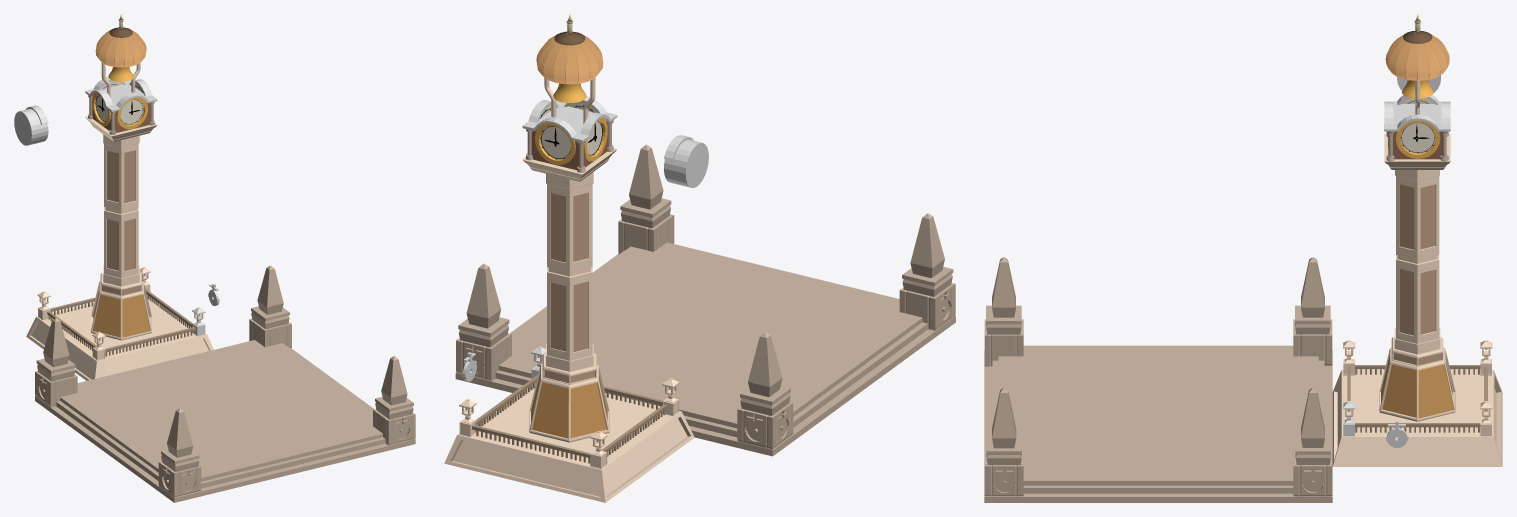
The model's file is Clock Tower.fbx.
3 renders of one model, left to right at view 1: azimuth 30°, elevation 25°; view 2: azimuth 150°, elevation 25°; view 3: azimuth 270°, elevation 25°, orthographic. The views are drawn at different scales.
Parts seen in each view (by area): view 1: Cube.011, LightTowerBase, Cube.024, Cylinder, Cube.002, Cube.021, Cube.022, Sphere.001, Cylinder.003, Cylinder.012, Clock holder.002, Clock (+11 smaller); view 2: Cube.011, LightTowerBase, Cylinder, Cube.021, Cube.024, Cube.022, Cube.002, Sphere.001, Plane.006, Cylinder.003, Plane.003, Cylinder.012 (+14 smaller); view 3: Cube.011, LightTowerBase, Cylinder, Cube.002, Cube.022, Cube.024, Cube.021, Sphere.001, Cylinder.003, Cylinder.012, Clock.001, Cube.014 (+8 smaller).
Boxes of the visible parts, left/top/right/bottom form: Cube.011: left=35, top=340, right=415, bottom=502; LightTowerBase: left=26, top=295, right=213, bottom=380; Cube.024: left=158, top=408, right=201, bottom=497; Cylinder: left=91, top=281, right=151, bottom=340; Cube.002: left=373, top=356, right=415, bottom=445; Cube.021: left=35, top=317, right=77, bottom=407; Cube.022: left=249, top=265, right=291, bottom=348; Sphere.001: left=95, top=27, right=146, bottom=67; Cylinder.003: left=104, top=207, right=138, bottom=278; Cylinder.012: left=104, top=143, right=138, bottom=212; Clock holder.002: left=14, top=109, right=48, bottom=145; Clock: left=100, top=81, right=147, bottom=129; Cube.011: left=455, top=242, right=955, bottom=456; LightTowerBase: left=444, top=383, right=694, bottom=502; Cylinder: left=529, top=364, right=609, bottom=442; Cube.021: left=737, top=332, right=793, bottom=449; Cube.024: left=899, top=213, right=955, bottom=330; Cube.022: left=456, top=263, right=511, bottom=381; Cube.002: left=618, top=144, right=674, bottom=254; Sphere.001: left=536, top=31, right=603, bottom=84; Plane.006: left=551, top=282, right=588, bottom=351; Cylinder.003: left=547, top=267, right=592, bottom=360; Plane.003: left=551, top=193, right=588, bottom=262; Cylinder.012: left=547, top=184, right=592, bottom=274; Cube.011: left=984, top=345, right=1332, bottom=502; LightTowerBase: left=1332, top=370, right=1502, bottom=466; Cylinder: left=1379, top=347, right=1455, bottom=421; Cube.002: left=984, top=388, right=1023, bottom=496; Cube.022: left=1293, top=388, right=1332, bottom=496; Cube.024: left=984, top=257, right=1023, bottom=366; Cube.021: left=1293, top=257, right=1332, bottom=366; Sphere.001: left=1385, top=31, right=1449, bottom=80; Cylinder.003: left=1396, top=255, right=1439, bottom=343; Cylinder.012: left=1396, top=176, right=1439, bottom=261; Clock.001: left=1396, top=98, right=1440, bottom=158; Cube.014: left=1343, top=340, right=1492, bottom=436.
Size of what is drawn, in the model's own units: 396 by 521 by 589.
